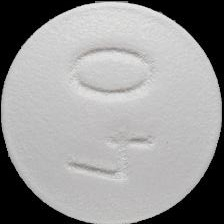51285-040: (0, 0, 224, 224)
